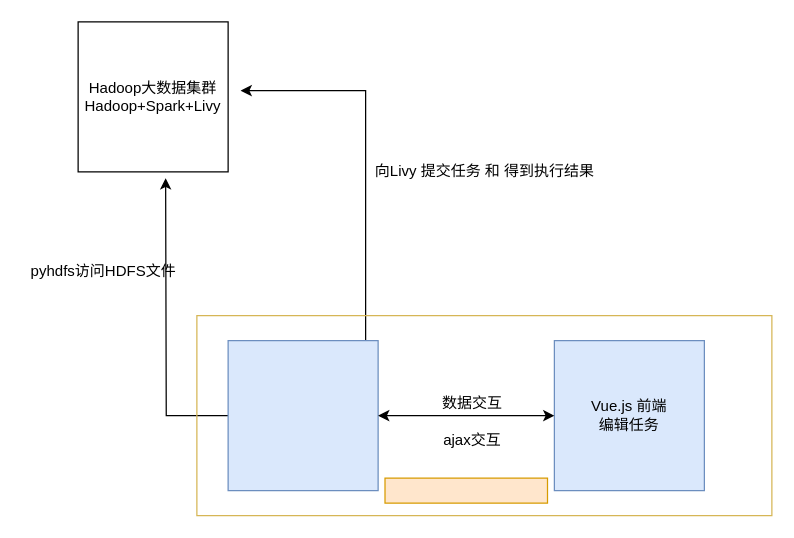
The diagram is 794 pixels wide and 538 high, and some of its shapes have lost their labels. The shapes that lost their labels are listed below. From the top down, each one's centre as x and y in pixels, then its label:
(302,415): Django后台
(466,490): 大数据离线分析平台
